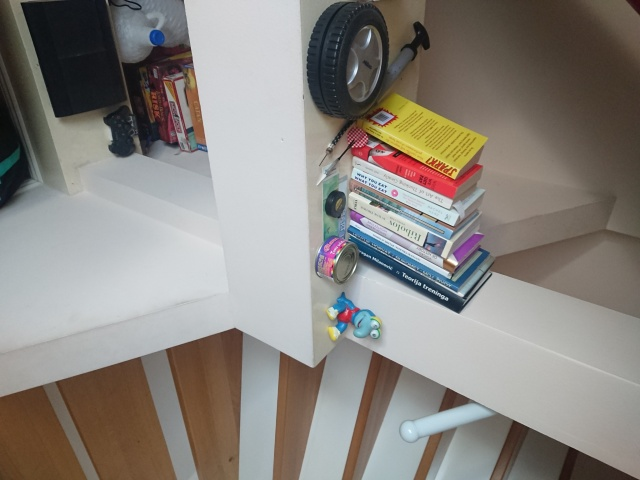Giana Tuna Salad Mexico 185g: (313, 234, 361, 286)
